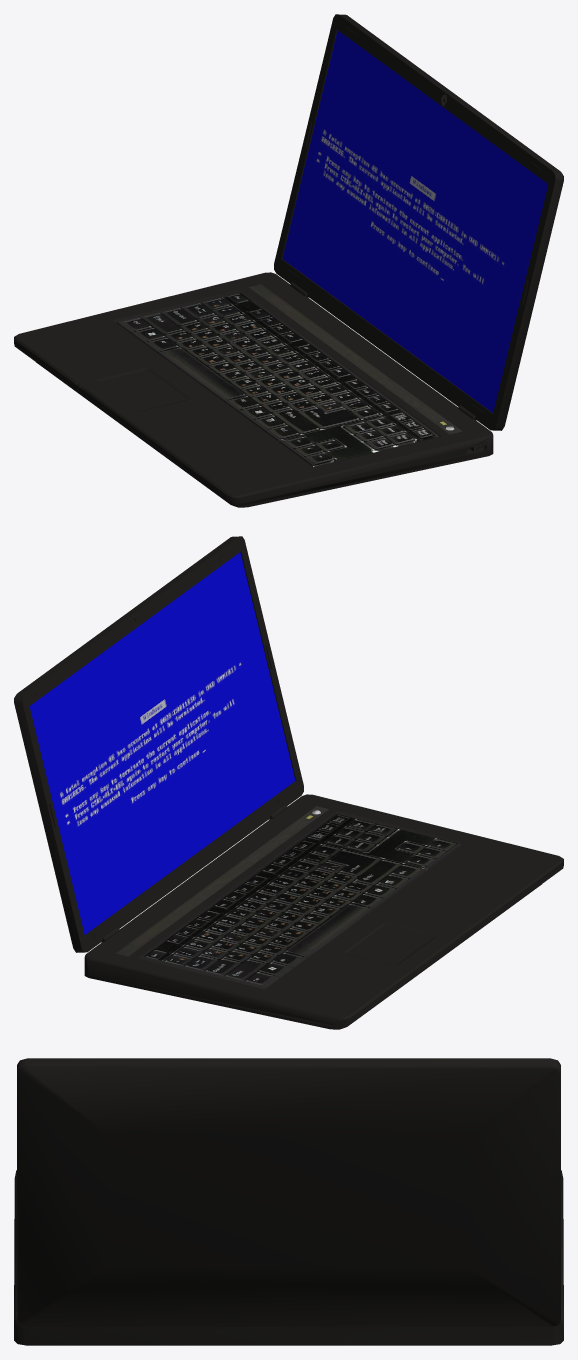
Rendered from laptop.gltf.
3 views of the same model, one above another, from view 1: azimuth 30°, elevation 25°; view 2: azimuth 150°, elevation 25°; view 3: azimuth 270°, elevation 25° (orthographic). The views are drawn at different scales.
Visible parts, largest first — view 1: Geode; view 2: Geode; view 3: Geode.
Part boxes in pixels (left/top/right/bottom): Geode: left=14, top=14, right=563, bottom=507; Geode: left=14, top=536, right=563, bottom=1029; Geode: left=14, top=1058, right=563, bottom=1345.
Size of the model in its own units: 0.399 by 0.3025 by 0.4639.
5 materials, 3 textured.
